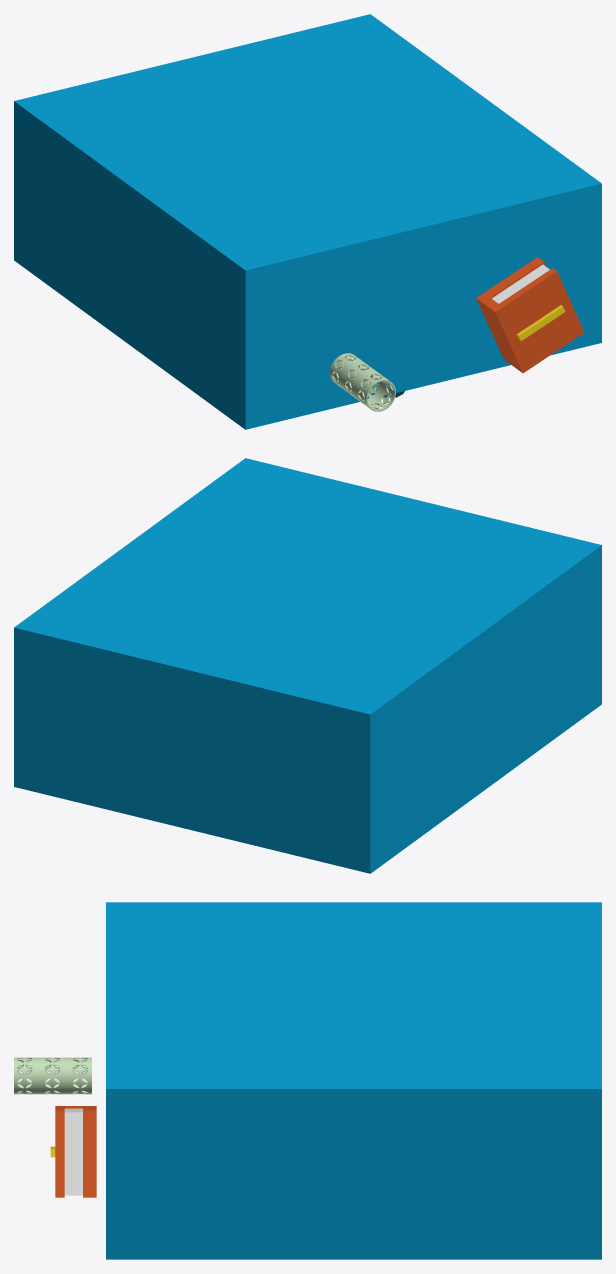
File: tinker.obj
3 views of the same model, one above another, from view 1: azimuth 30°, elevation 25°; view 2: azimuth 150°, elevation 25°; view 3: azimuth 270°, elevation 25° (orthographic). The views are drawn at different scales.
Visible parts, largest first — view 1: group_0_40919, group_0_14900002, group_0_13165757, group_0_16448250; view 2: group_0_40919; view 3: group_0_40919, group_0_13165757, group_0_14900002, group_0_16448250.
Part boxes in pixels (x1,y1,x2,y2): group_0_40919: (14, 14, 601, 429); group_0_14900002: (476, 257, 584, 373); group_0_13165757: (330, 353, 395, 411); group_0_16448250: (492, 264, 549, 303); group_0_40919: (14, 458, 601, 873); group_0_40919: (106, 902, 601, 1259); group_0_13165757: (14, 1057, 91, 1094); group_0_14900002: (55, 1106, 96, 1197); group_0_16448250: (64, 1108, 82, 1195).
Size of the model in its own units: 96 by 49 by 128.
